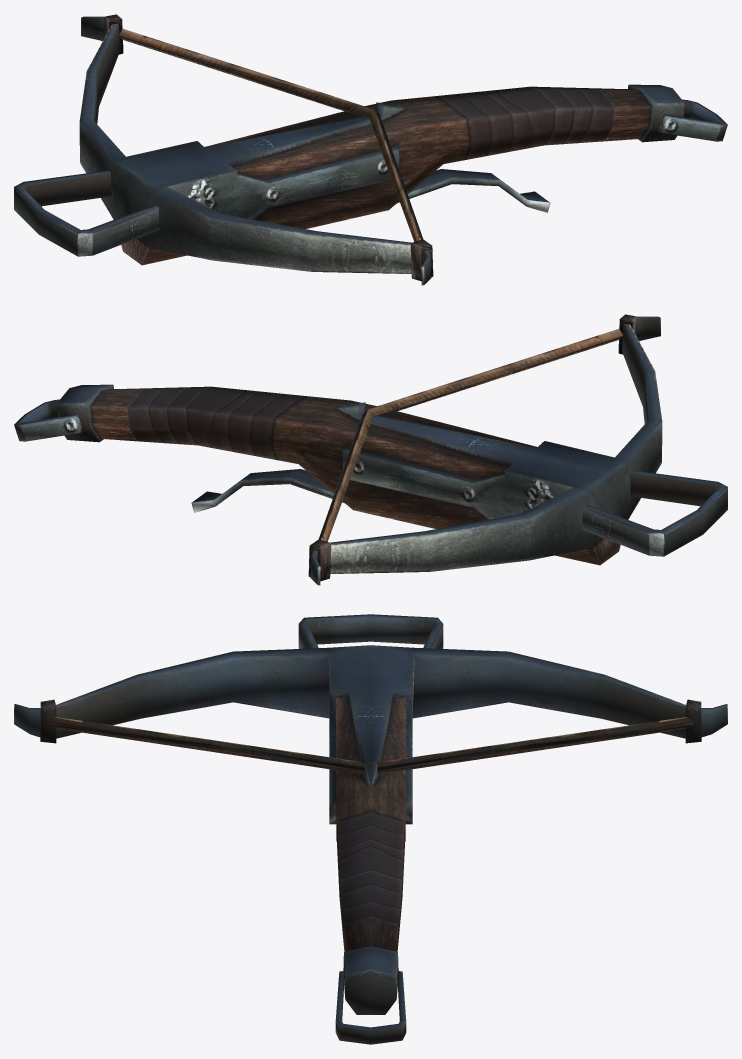
The model's file is KM_ITRW_CROSSBOW_03.glb.
3 views of the same model, one above another, from view 1: azimuth 30°, elevation 25°; view 2: azimuth 150°, elevation 25°; view 3: azimuth 270°, elevation 25° (orthographic). The views are drawn at different scales.
Parts seen in each view (by area): view 1: KM_ITRW_CROSSBOW_03; view 2: KM_ITRW_CROSSBOW_03; view 3: KM_ITRW_CROSSBOW_03.
Boxes of the visible parts, left/top/right/bottom form: KM_ITRW_CROSSBOW_03: left=14, top=14, right=727, bottom=285; KM_ITRW_CROSSBOW_03: left=14, top=314, right=727, bottom=585; KM_ITRW_CROSSBOW_03: left=14, top=614, right=727, bottom=1044.
Size of the model in its own units: 1.02 by 0.2063 by 0.8903.
Materials: 1 (1 with a texture image).
